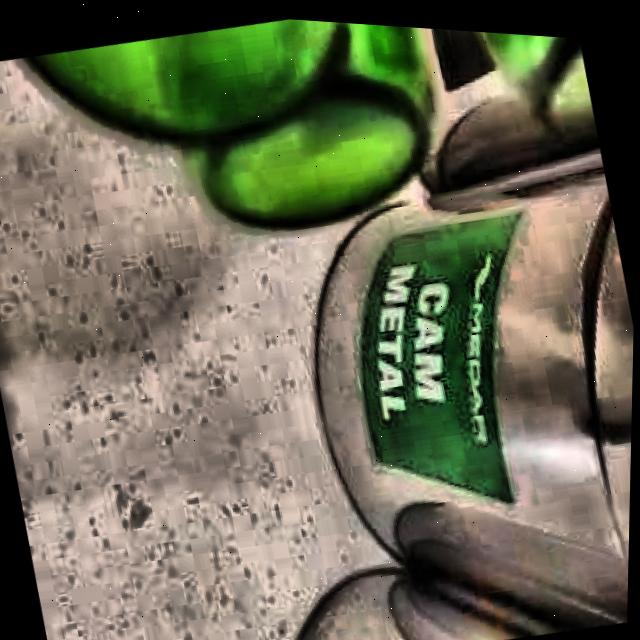glass: (28, 15, 433, 224)
